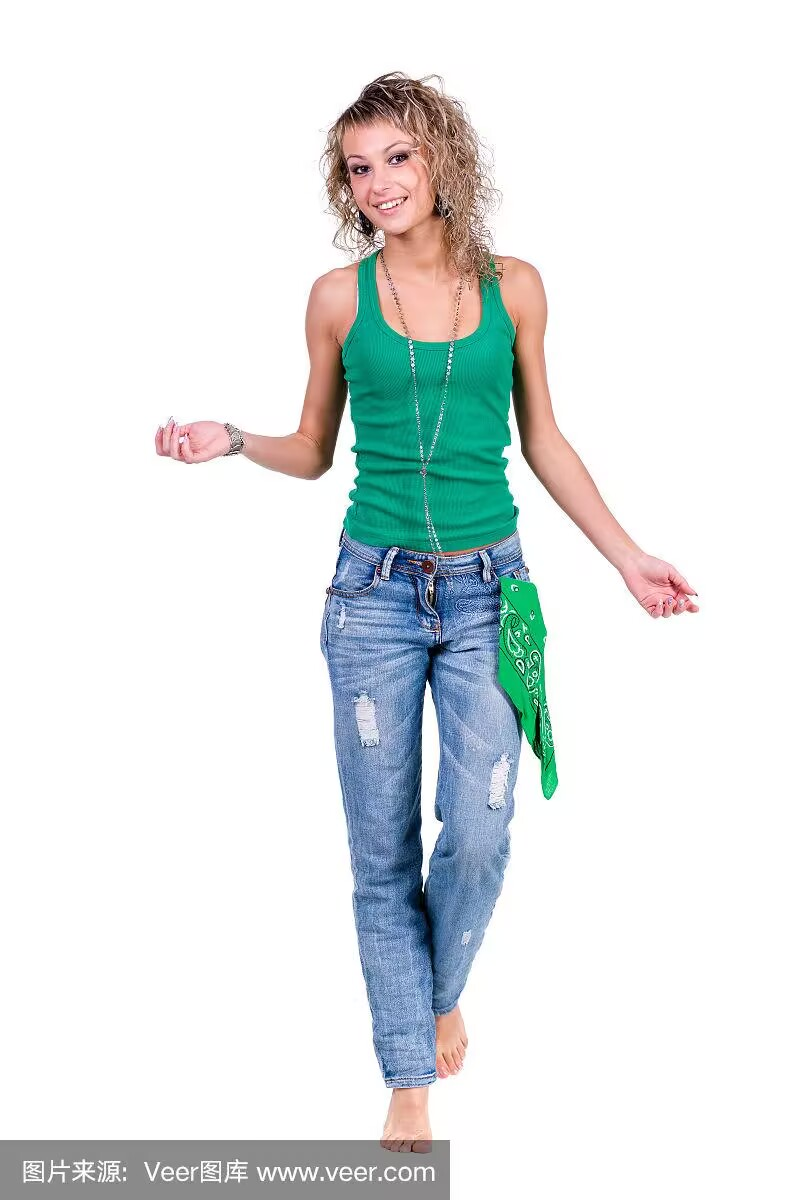up: (156, 53, 719, 1141)
